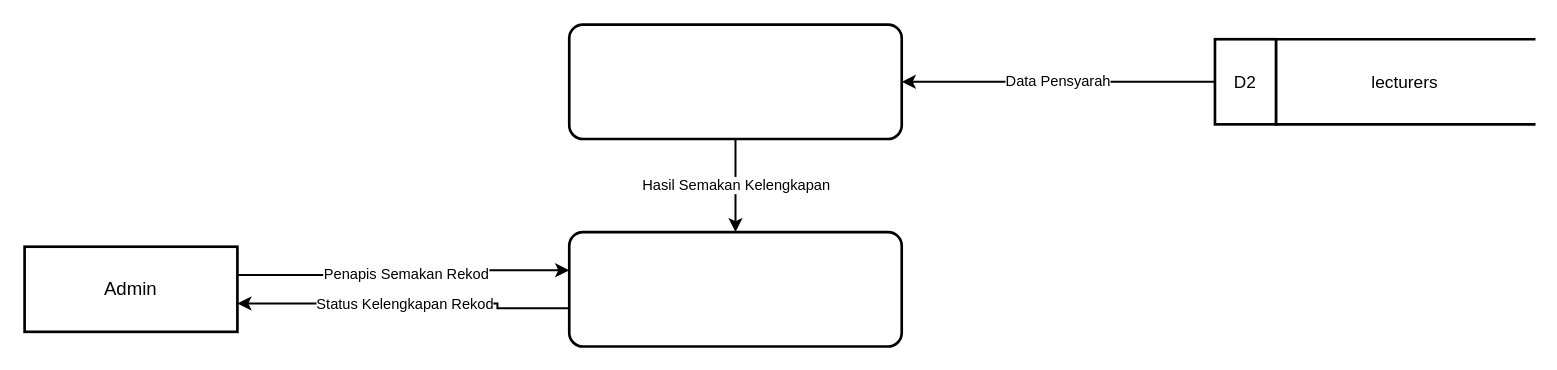
Some shapes in this 1557 by 370 pixel diagram are drawn without their labels. The shapes that lost their labels are listed below. From the top down, each one's box as (x1, y1, x2, y2) in pixels, then its label:
(567, 23, 902, 140): 2.1 Semak Kelengkapan Rekod
(567, 230, 902, 347): 2.2 Papar Senarai dan Bilangan Rekod
